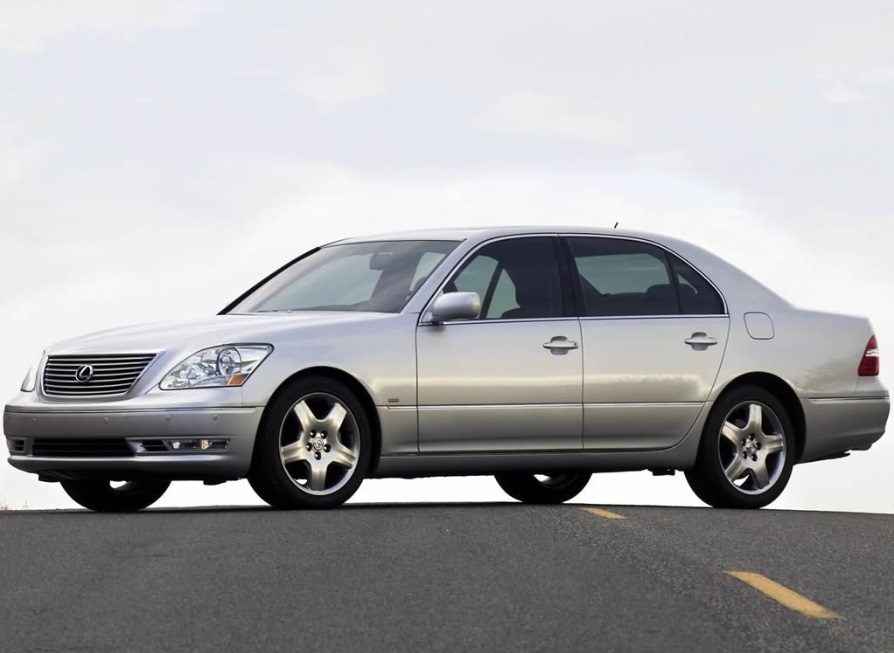family sedan: (28, 177, 881, 549)
